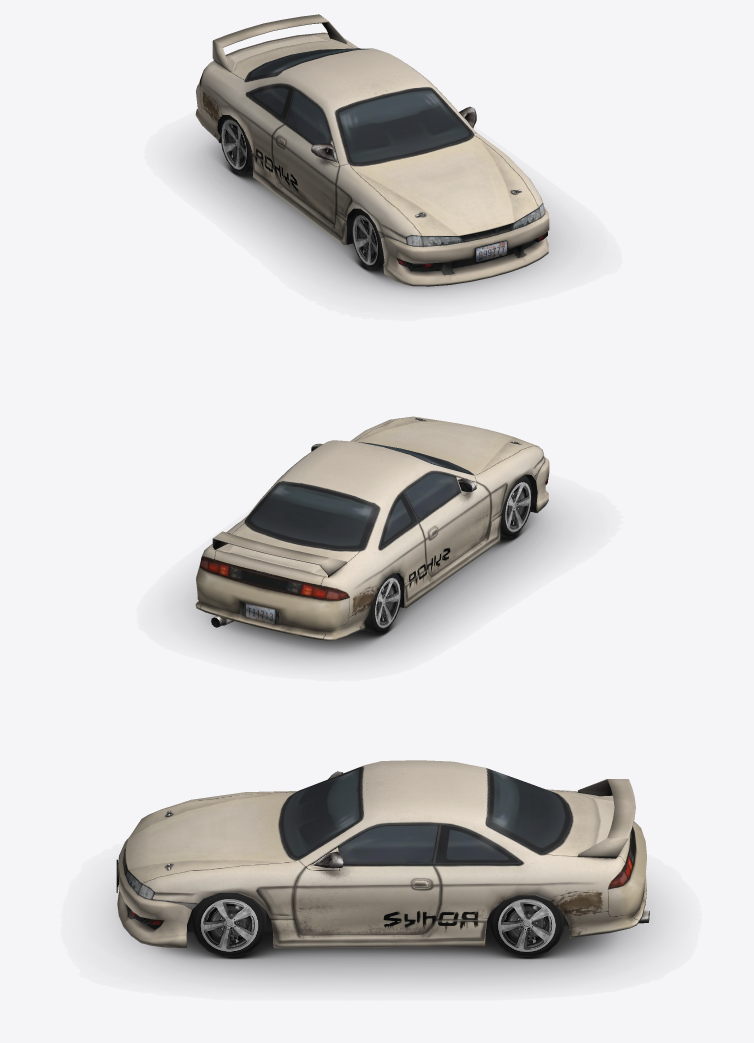
The model's file is car.glb.
3 views of the same model, one above another, from view 1: azimuth 30°, elevation 25°; view 2: azimuth 150°, elevation 25°; view 3: azimuth 270°, elevation 25° (orthographic). The views are drawn at different scales.
Parts seen in each view (by area): view 1: BODY, Plane, FR, REAR_WHEELS; view 2: BODY, Plane, REAR_WHEELS, FR; view 3: BODY, Plane, FL, REAR_WHEELS.
Boxes of the visible parts, bbox=[...] form: BODY: bbox=[195, 14, 549, 286]; Plane: bbox=[189, 133, 561, 295]; FR: bbox=[352, 208, 384, 270]; REAR_WHEELS: bbox=[220, 115, 252, 175]; BODY: bbox=[195, 416, 549, 640]; Plane: bbox=[186, 504, 561, 661]; REAR_WHEELS: bbox=[362, 573, 401, 633]; FR: bbox=[500, 475, 532, 537]; BODY: bbox=[116, 760, 649, 948]; Plane: bbox=[114, 898, 654, 981]; FL: bbox=[192, 893, 266, 956]; REAR_WHEELS: bbox=[490, 895, 563, 956].
Bounding box in the file's own units: 45.61 × 12.6 × 62.07.
3 materials, 3 textured.
